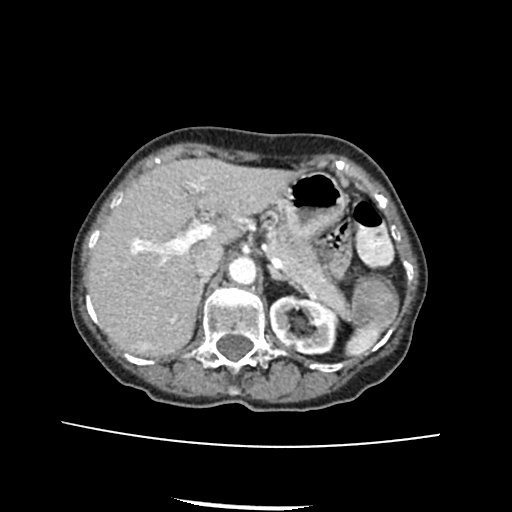aorta: (228, 257, 255, 286)
